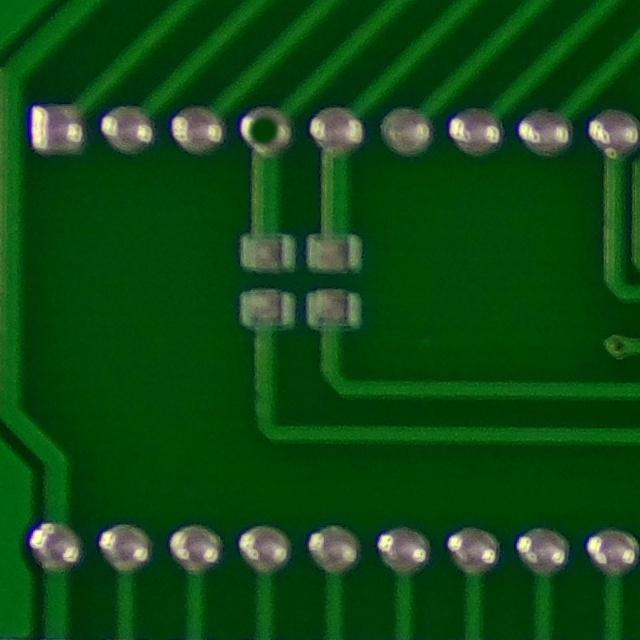missing_hole: (237, 100, 296, 164)
